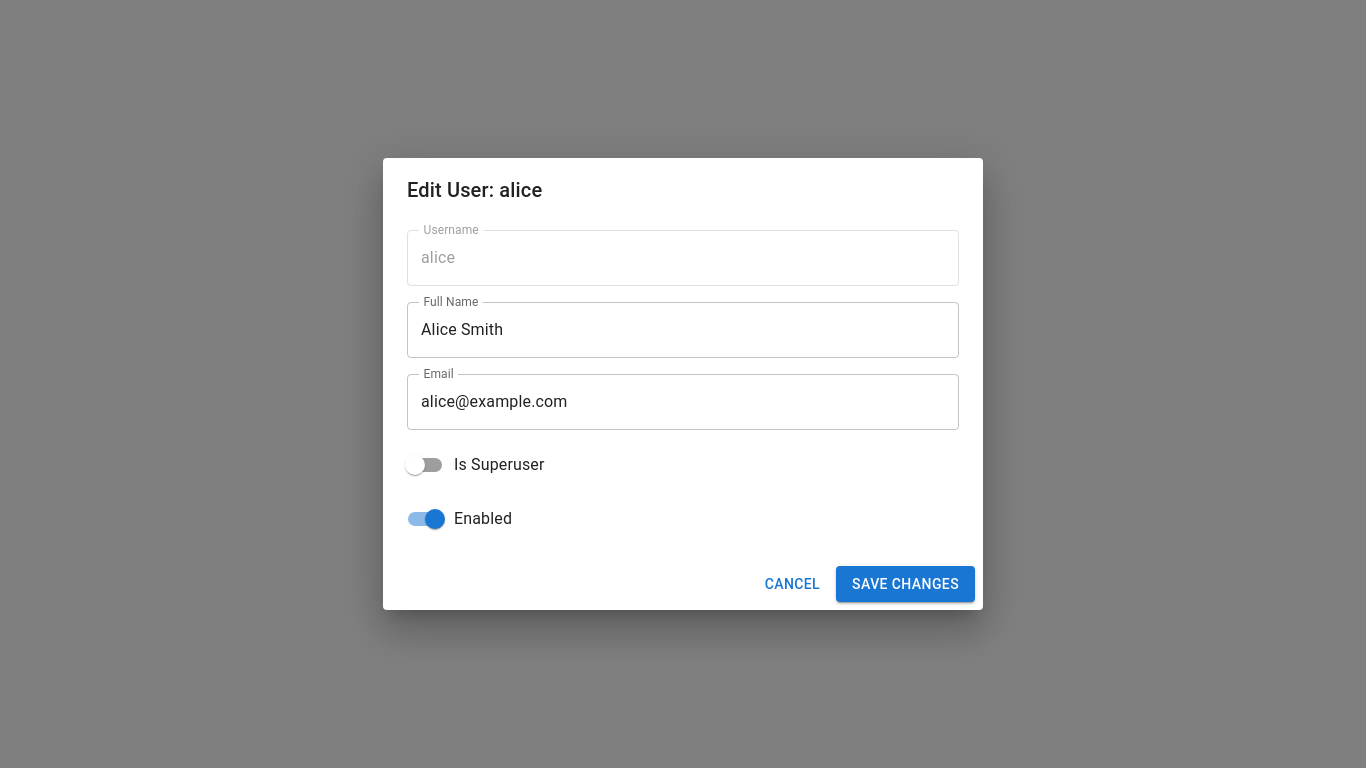
UserDialog — edit mode › surfaces error from server on edit failure
The image size is (1366, 768).
Click the button "Save Changes". click: click(906, 584)
box: x1=836 y1=566 x2=975 y2=602
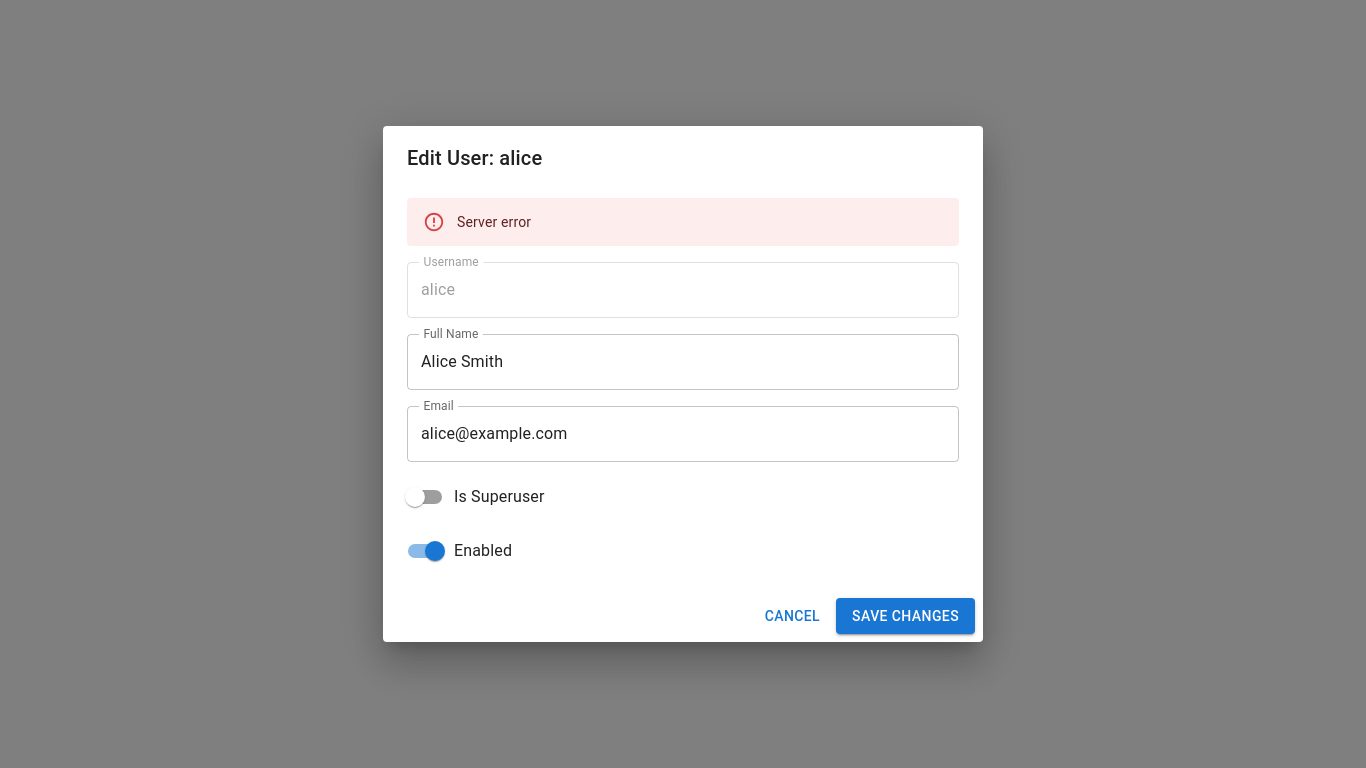
Expected: the message reads "Server error", x1=457 y1=214 x2=531 y2=230
